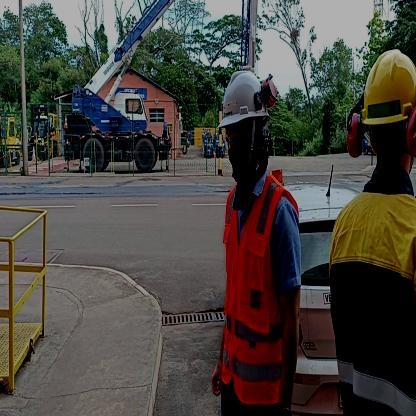Balaclava: (220, 120, 273, 194)
C_eletrica: (332, 202, 416, 415)
Capacete: (352, 45, 416, 132), (218, 65, 268, 124)
colete: (222, 186, 288, 400)
